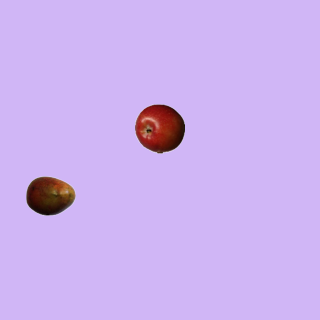Apple Braeburn: (134, 103, 184, 153)
Mango Red: (25, 170, 75, 220)
